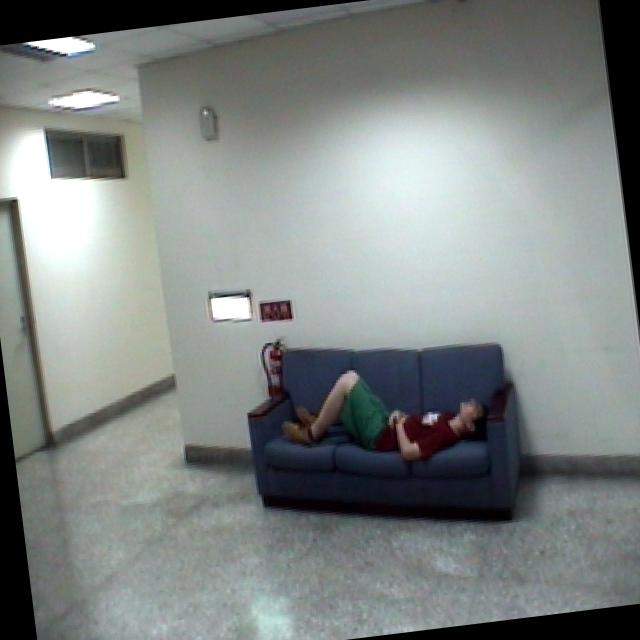lie: (271, 342, 492, 483)
